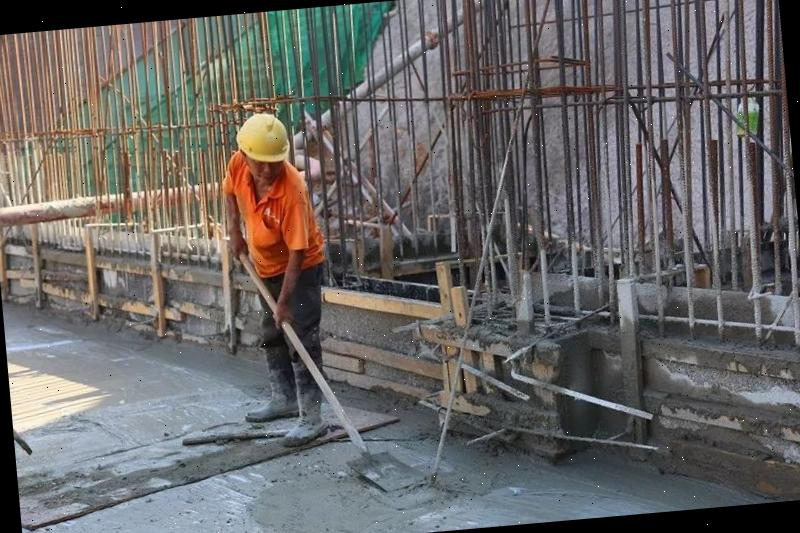helmet: (230, 108, 296, 164)
no_wear: (218, 162, 314, 282)
